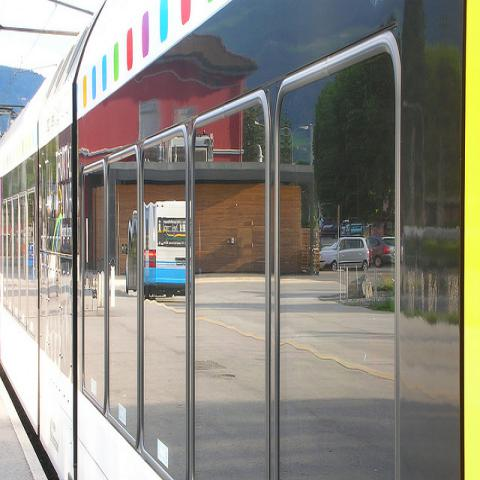bus: (143, 203, 187, 304)
car: (320, 237, 370, 272), (367, 236, 392, 268), (382, 237, 396, 263), (322, 224, 335, 239), (342, 227, 346, 235)
